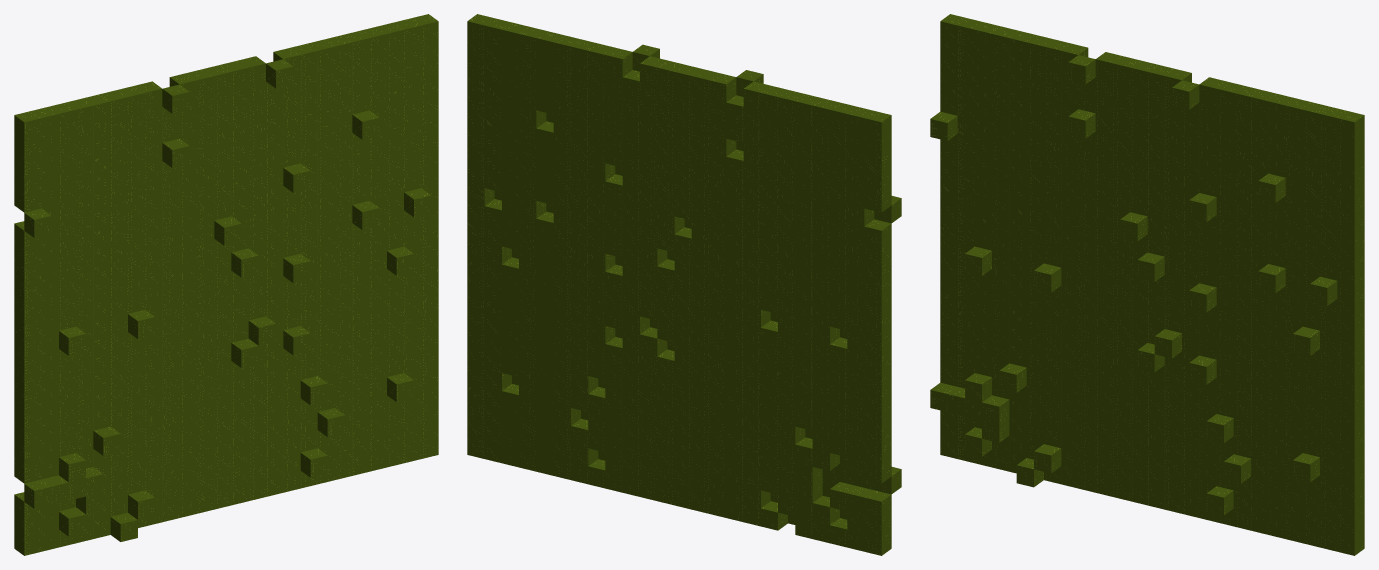
3 views of the same model, side by side, from view 1: azimuth 30°, elevation 25°; view 2: azimuth 150°, elevation 25°; view 3: azimuth 330°, elevation 25° (orthographic).
Bounding box in the file's own units: 2.4 × 2.4 × 0.2.
